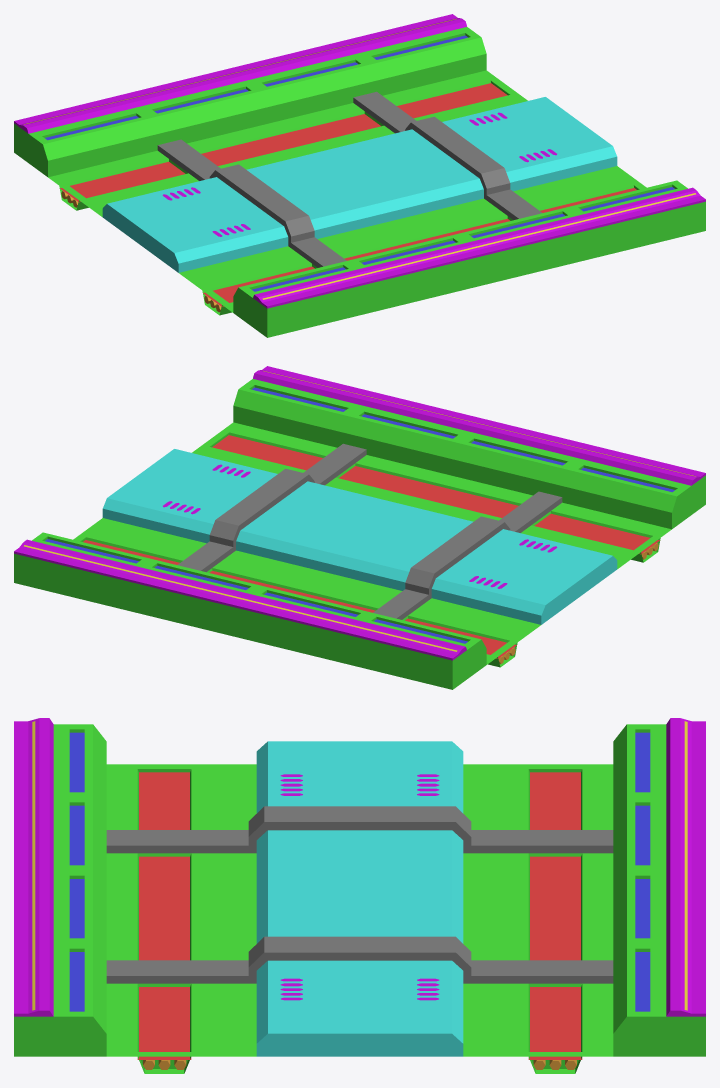
The model's file is Interior_Deco_06_Straight.fbx.
3 renders of one model, top to bottom at view 1: azimuth 30°, elevation 25°; view 2: azimuth 150°, elevation 25°; view 3: azimuth 270°, elevation 25°, orthographic. The views are drawn at different scales.
Visible parts, largest first — view 1: Interior_Deco_06_Straight; view 2: Interior_Deco_06_Straight; view 3: Interior_Deco_06_Straight.
Part boxes in pixels (x1,y1,x2,y2): Interior_Deco_06_Straight: [14, 14, 705, 337]; Interior_Deco_06_Straight: [14, 366, 705, 689]; Interior_Deco_06_Straight: [14, 718, 705, 1073].
Bounding box in the file's own units: 457 × 46.16 × 457.
